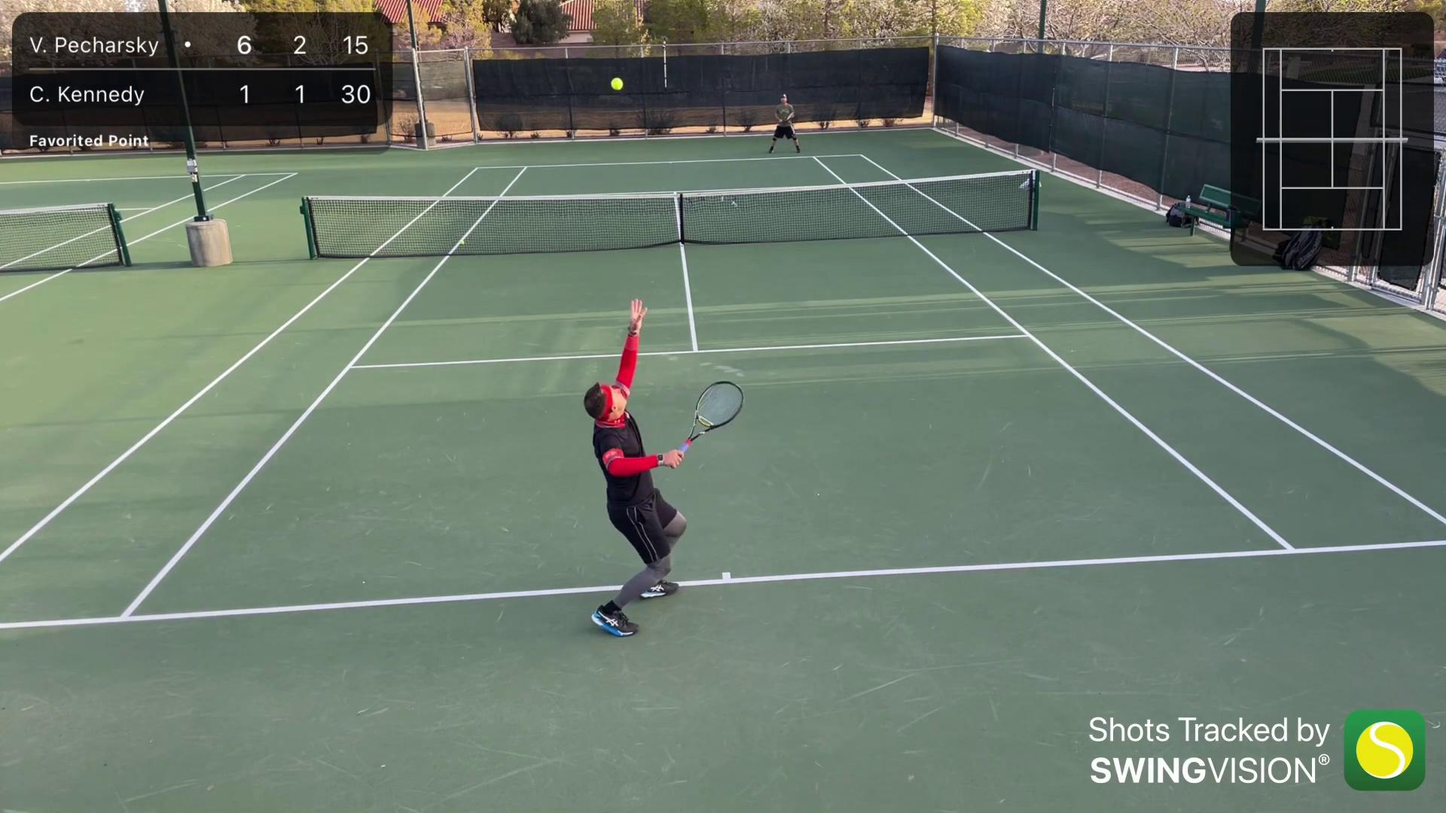ball: (607, 75, 627, 93)
